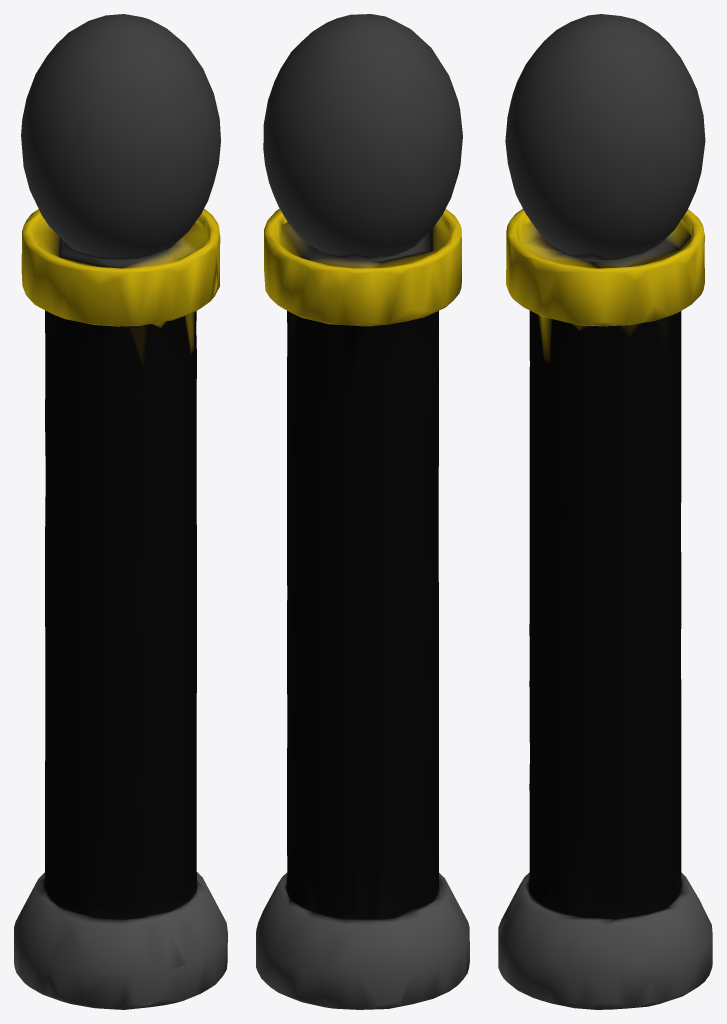
The model's file is gen3d-street-bollard-lod0.glb.
3 renders of one model, left to right at view 1: azimuth 30°, elevation 25°; view 2: azimuth 150°, elevation 25°; view 3: azimuth 270°, elevation 25°, orthographic.
Visible parts, largest first — view 1: part_0; view 2: part_0; view 3: part_0.
Boxes of the visible parts, bbox=[...] form: part_0: bbox=[14, 14, 227, 1009]; part_0: bbox=[256, 14, 469, 1009]; part_0: bbox=[498, 14, 712, 1009].
Size of the model in its own units: 0.2055 by 1 by 0.2057.
